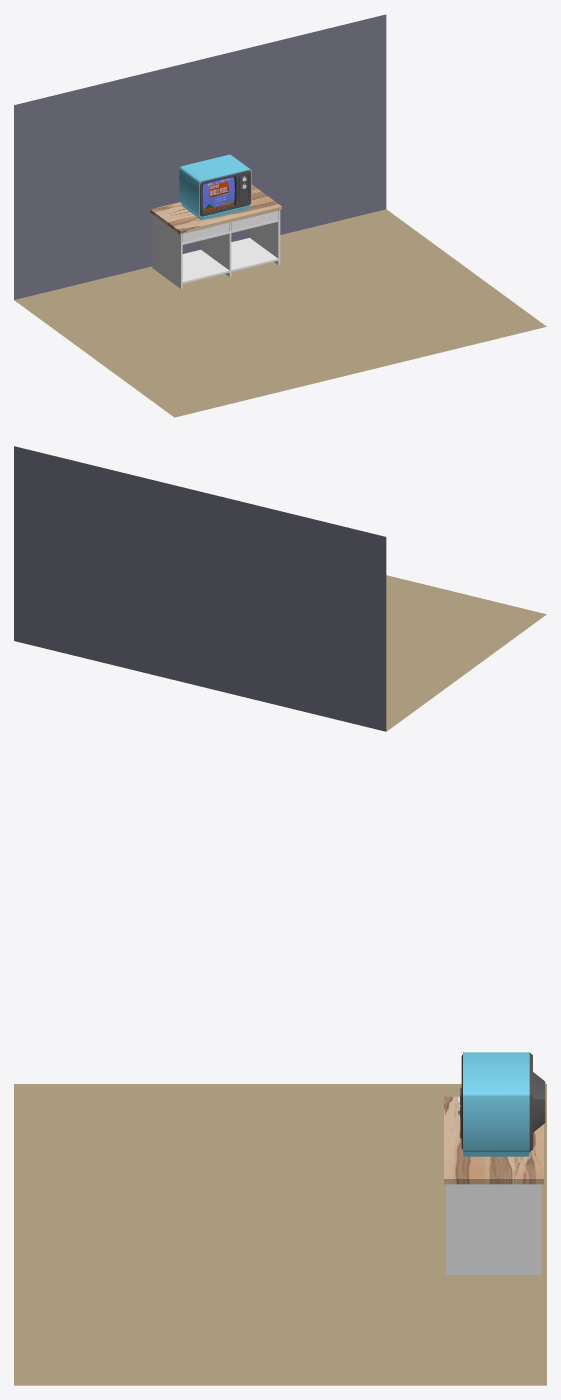
File: Retro TV Scene.fbx
3 views of the same model, one above another, from view 1: azimuth 30°, elevation 25°; view 2: azimuth 150°, elevation 25°; view 3: azimuth 270°, elevation 25° (orthographic). The views are drawn at different scales.
Visible parts, largest first — view 1: Wall-Floor, Table, TV; view 2: Wall-Floor; view 3: Wall-Floor, Table, TV.
Part boxes in pixels (left/top/right/bottom): Wall-Floor: left=14, top=14, right=546, bottom=417; Table: left=150, top=185, right=281, bottom=288; TV: left=179, top=154, right=251, bottom=220; Wall-Floor: left=14, top=446, right=546, bottom=731; Wall-Floor: left=14, top=1084, right=546, bottom=1385; Table: left=444, top=1096, right=543, bottom=1274; TV: left=458, top=1052, right=545, bottom=1156.
Size of the model in its own units: 600 by 300 by 448.
